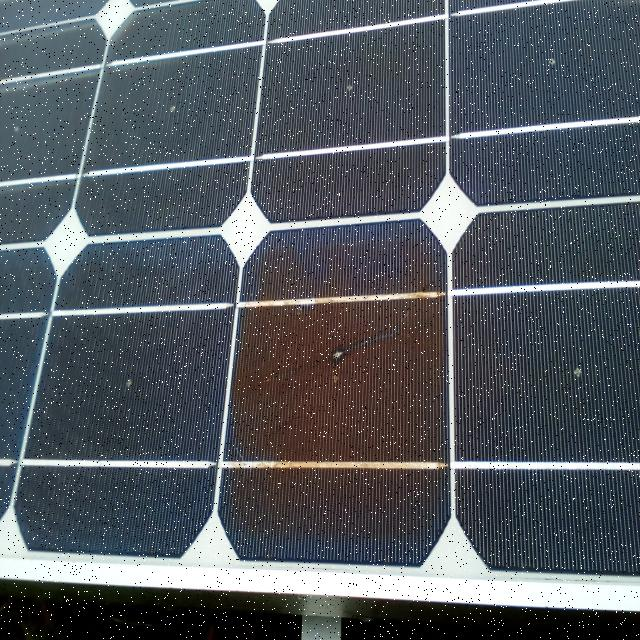electrical damage: (217, 224, 452, 567)
